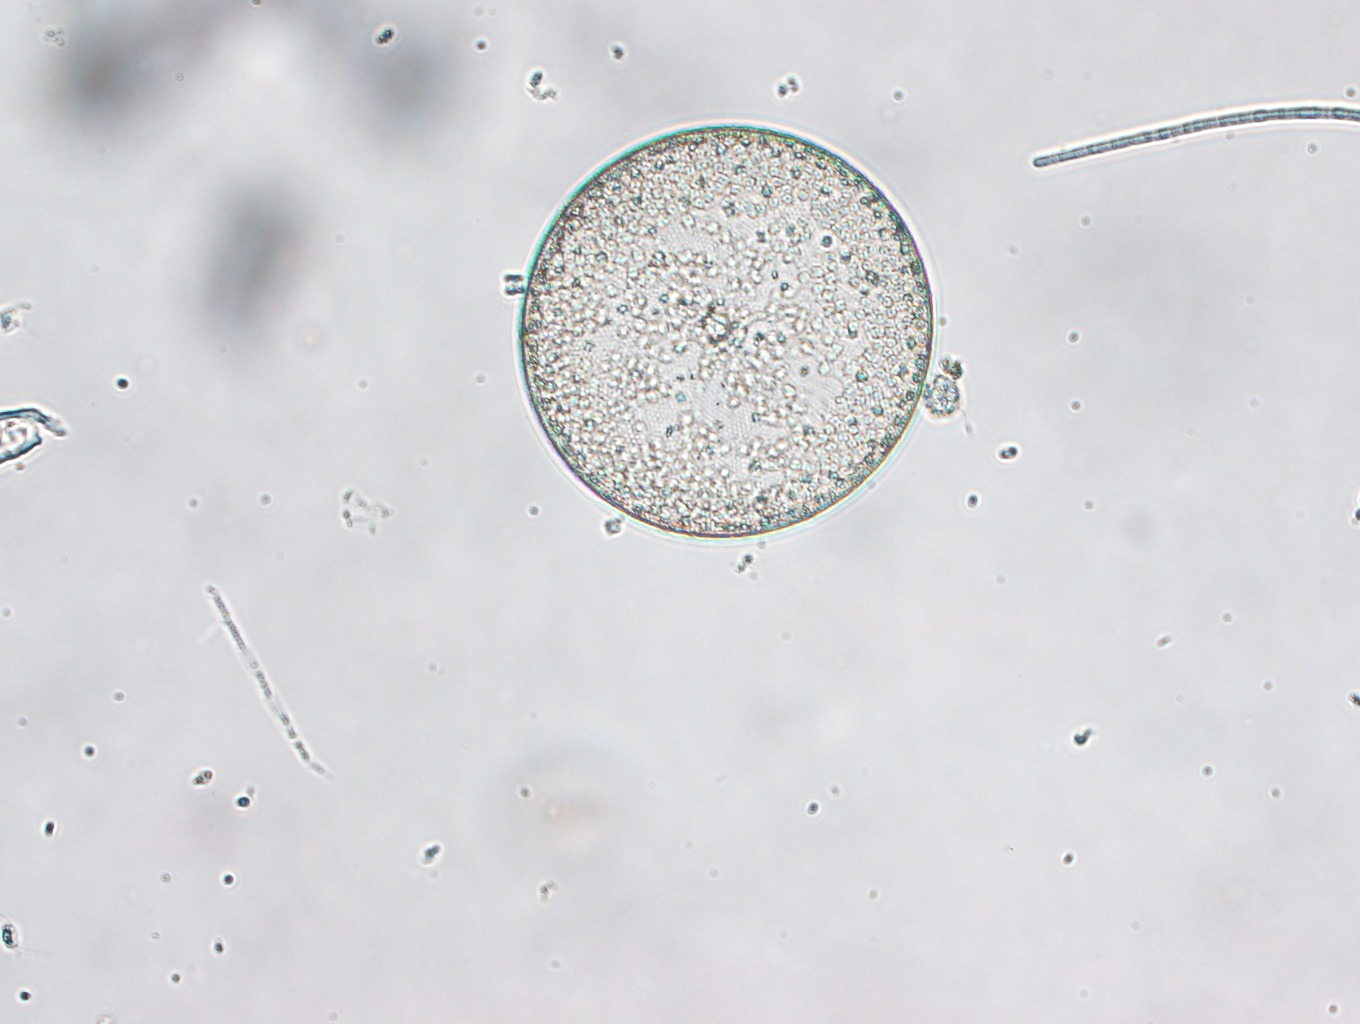coscinodiscus: (518, 122, 933, 540)
